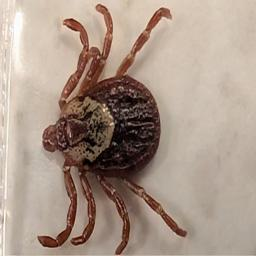Dermacentor variabilis: (35, 3, 186, 253)
